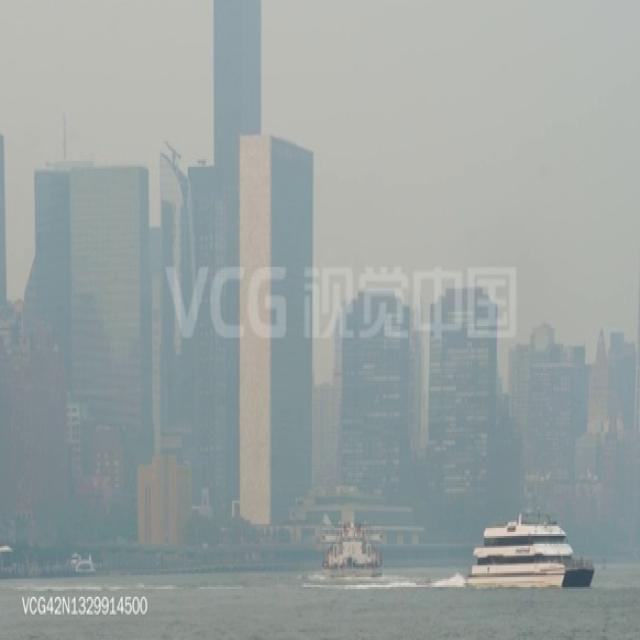houseboat: (64, 551, 95, 578)
passenger ship: (465, 510, 594, 590), (322, 516, 382, 578)
